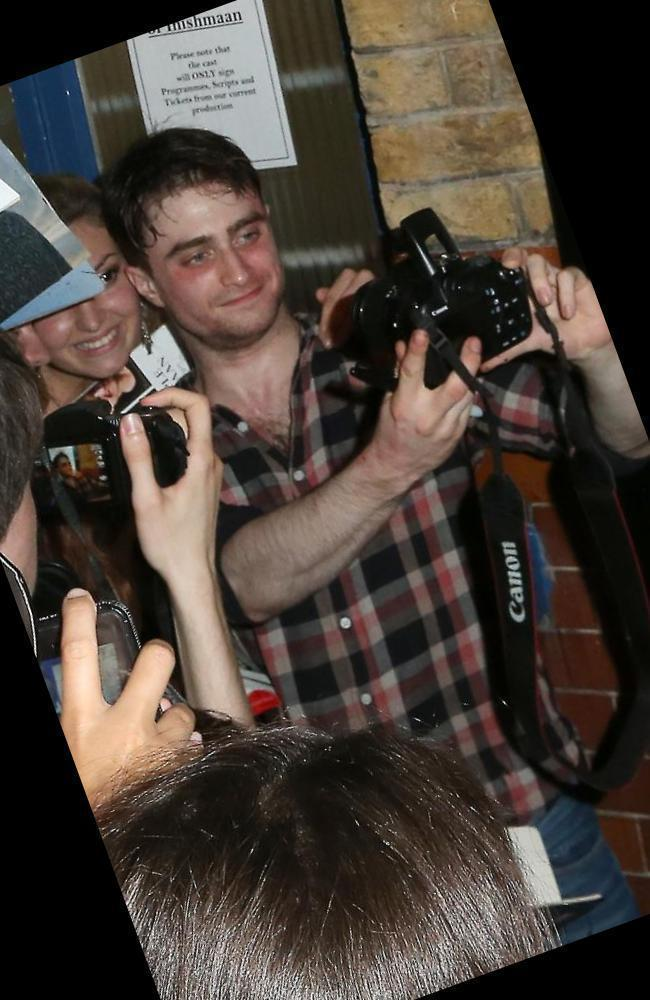Drunk: (139, 174, 287, 330)
